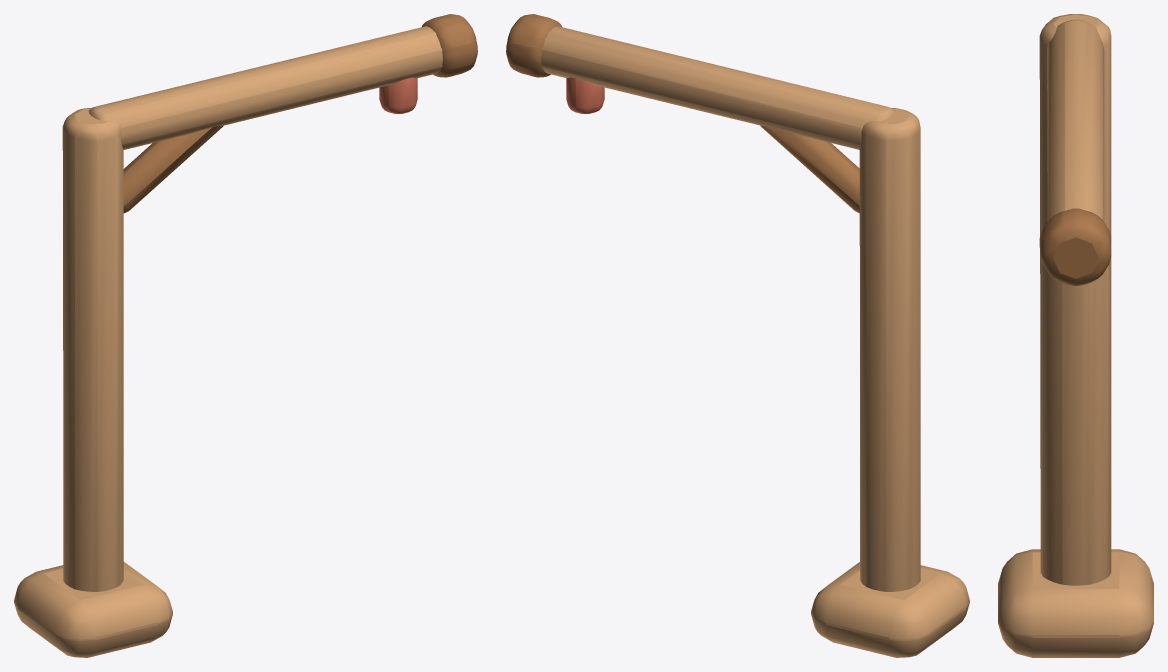
File: chime_frame.glb
3 views of the same model, side by side, from view 1: azimuth 30°, elevation 25°; view 2: azimuth 150°, elevation 25°; view 3: azimuth 270°, elevation 25° (orthographic). The views are drawn at different scales.
Visible parts, largest first — view 1: arm; view 2: arm; view 3: arm.
Boxes of the visible parts, x1,y1,x2,y2 form: arm: (14,14,477,657); arm: (506,14,969,657); arm: (998,14,1153,657).
Bounding box in the file's own units: 0.7063 × 0.8311 × 0.1875.
